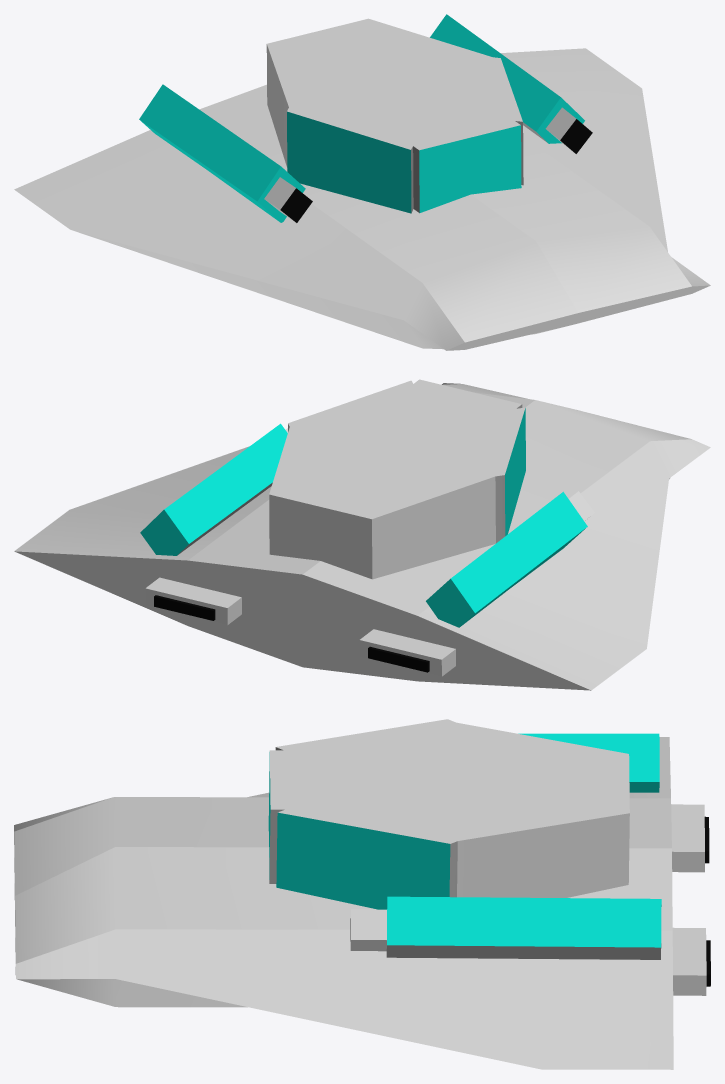
The model's file is Lazorus_Ship_Idle.fbx.
3 renders of one model, top to bottom at view 1: azimuth 30°, elevation 25°; view 2: azimuth 150°, elevation 25°; view 3: azimuth 270°, elevation 25°, orthographic. The views are drawn at different scales.
Visible parts, largest first — view 1: pCylinder2; view 2: pCylinder2; view 3: pCylinder2.
Part boxes in pixels (x1,y1,x2,y2): pCylinder2: (14, 14, 710, 350); pCylinder2: (14, 379, 710, 690); pCylinder2: (14, 719, 710, 1069).
Size of the model in its own units: 12.97 by 3.25 by 11.47.
